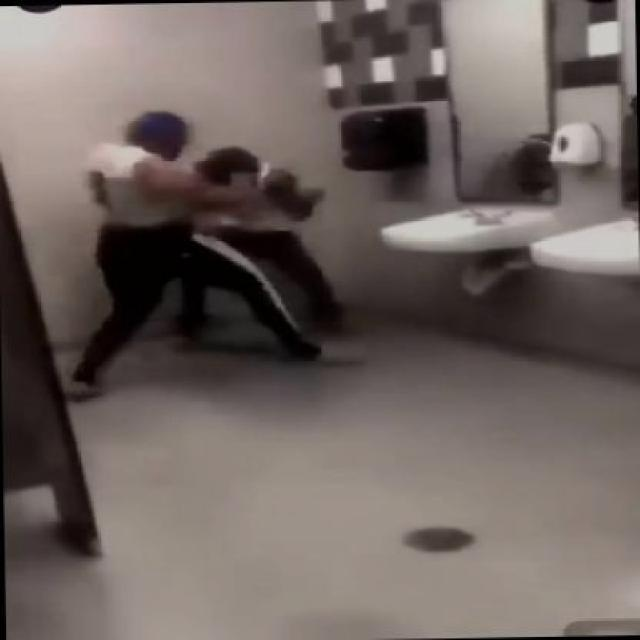fight: (34, 92, 357, 425)
